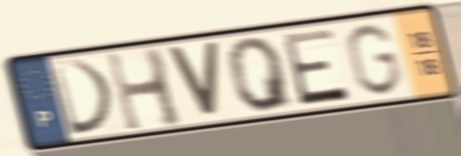D: (47, 57, 118, 140)
E: (278, 25, 354, 109)
G: (343, 21, 406, 99)
H: (102, 45, 188, 136)
Q: (224, 34, 298, 115)
V: (163, 40, 222, 120)
